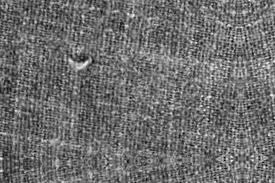snag: (61, 51, 99, 74)
